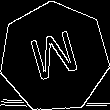M_S: (26, 26, 83, 88)
